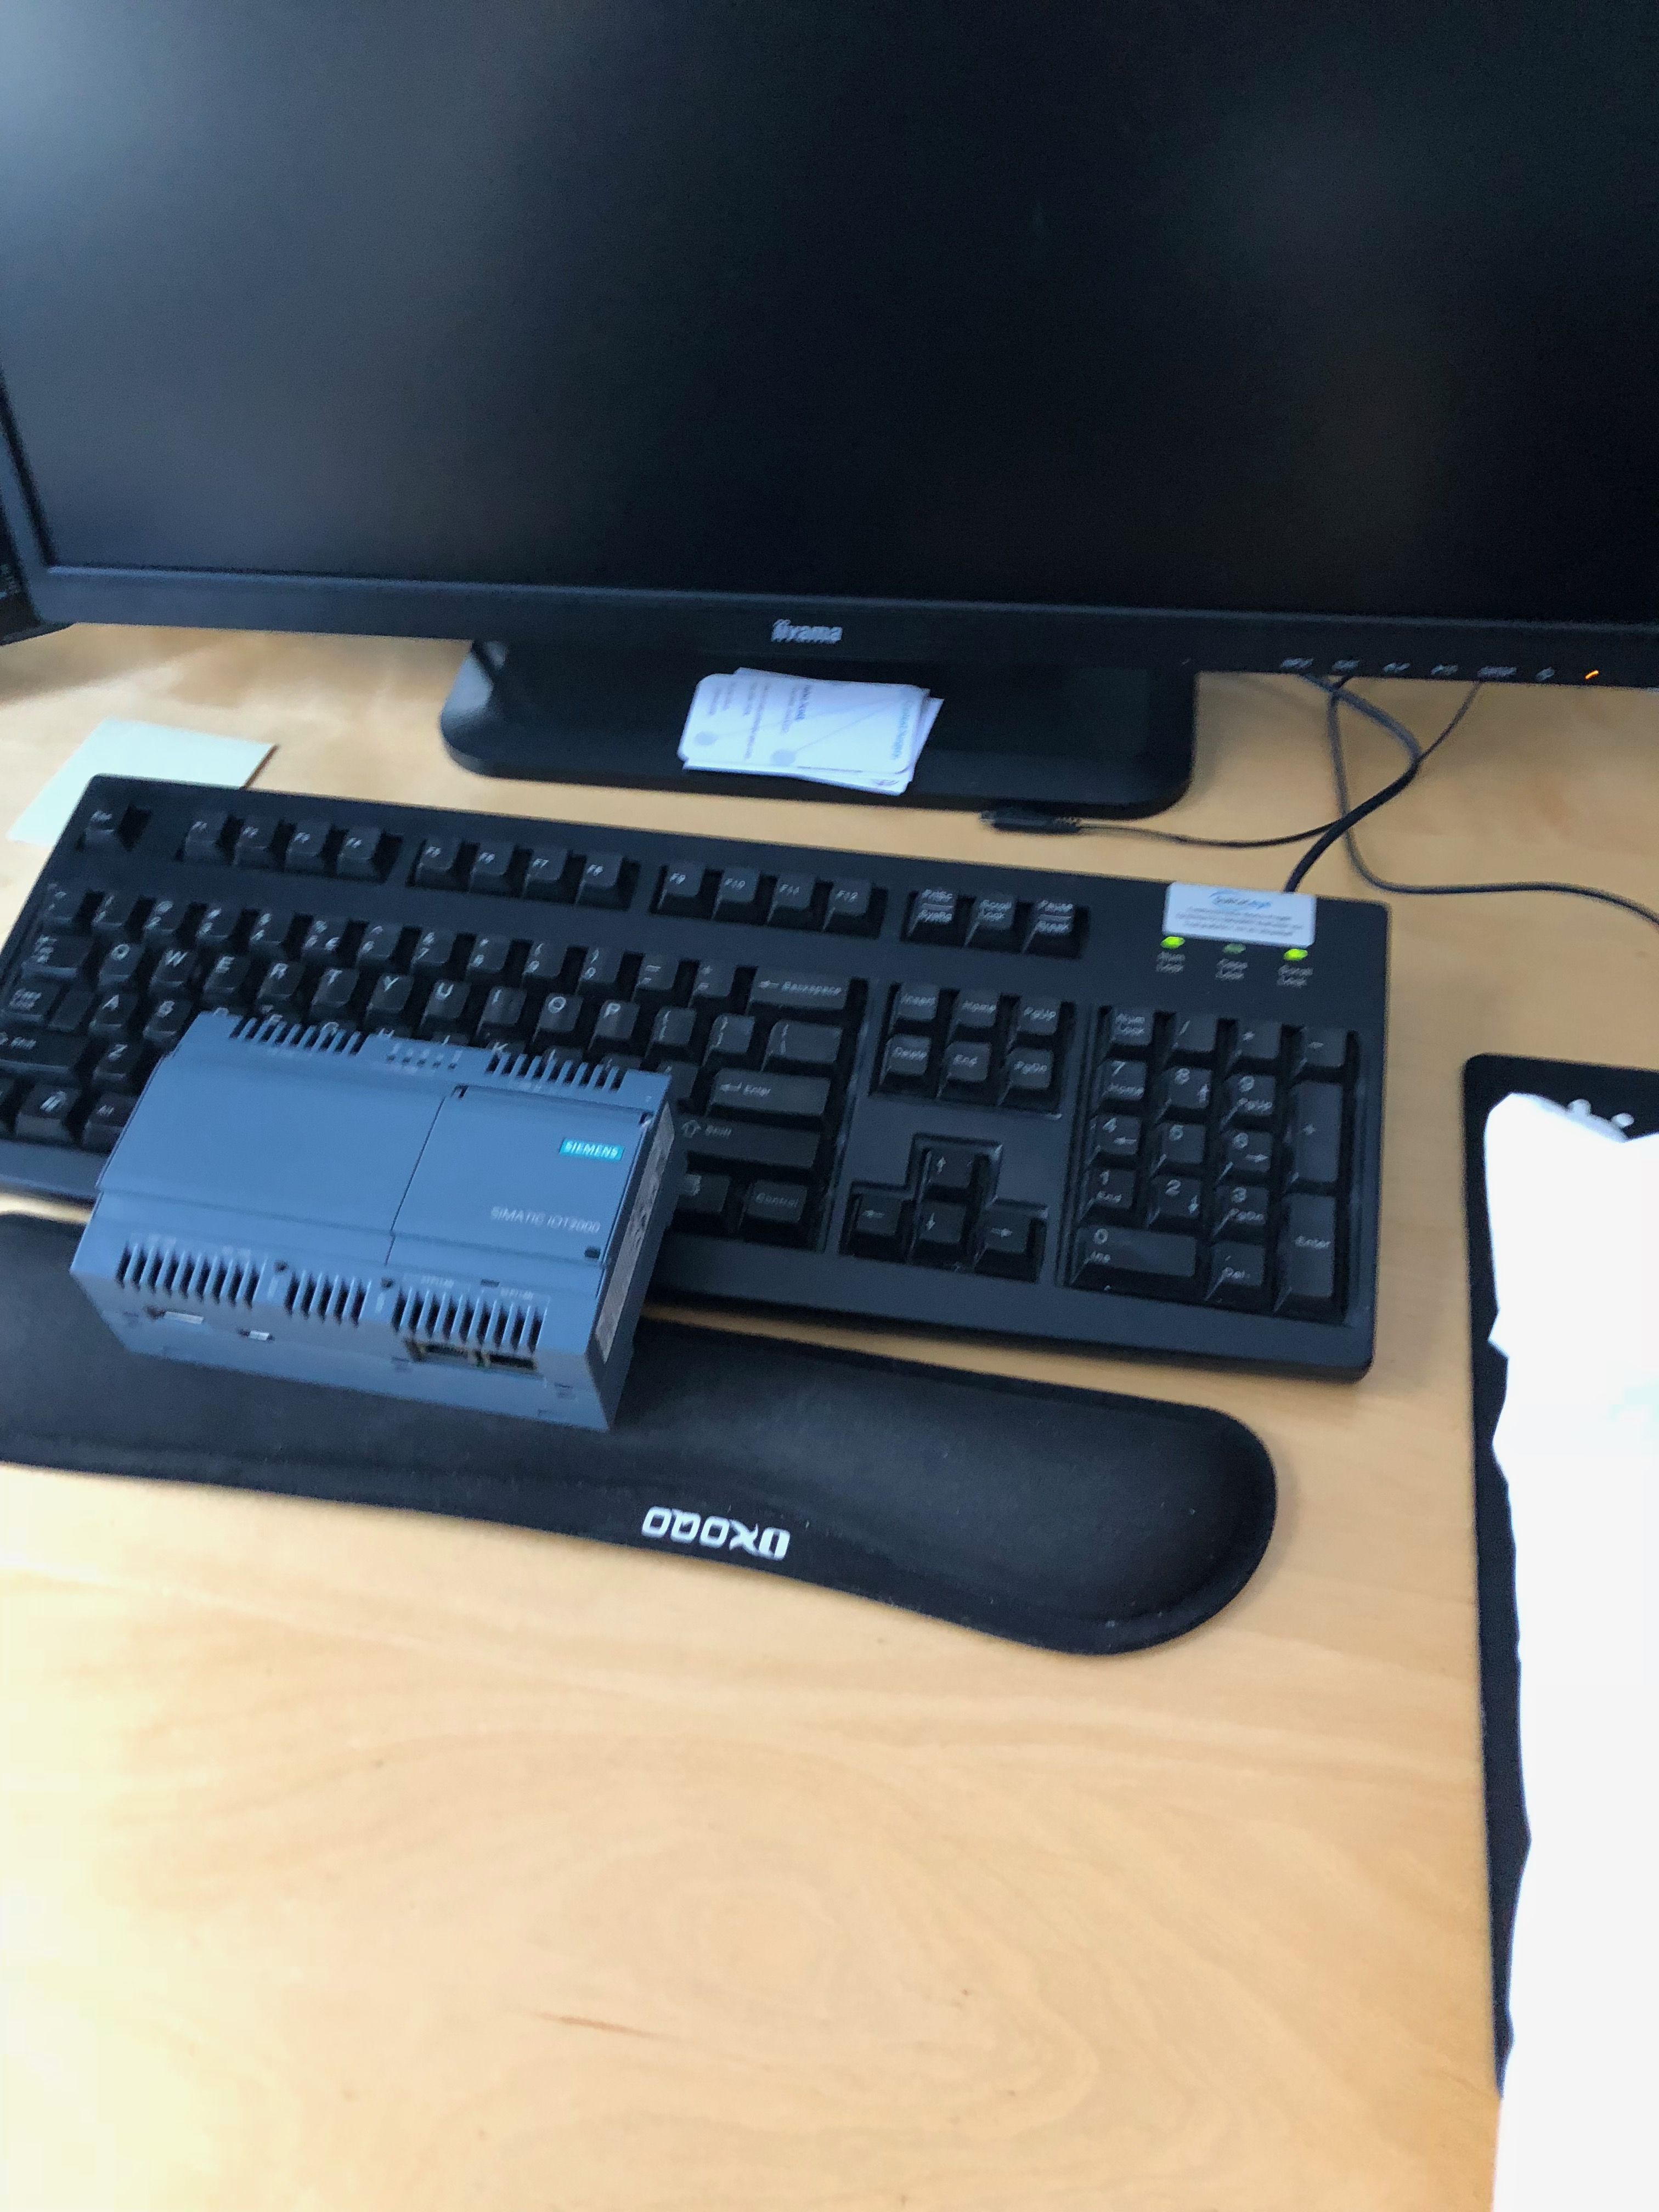device: (68, 1012, 688, 1435)
